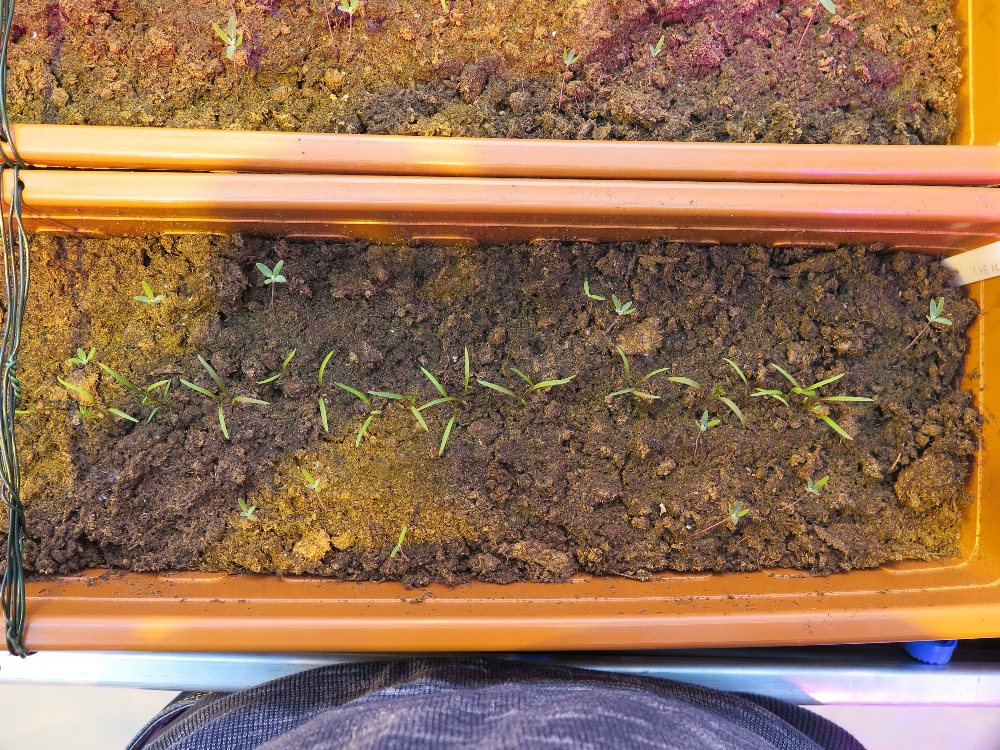crop: (109, 347, 280, 461), (402, 349, 591, 440), (748, 358, 875, 445), (57, 347, 155, 458), (384, 363, 471, 461), (589, 329, 682, 420), (687, 340, 759, 445), (262, 340, 334, 438), (330, 372, 398, 454)
weed: (257, 258, 309, 313), (582, 267, 634, 322), (212, 8, 262, 65), (914, 297, 966, 347), (307, 1, 377, 38), (691, 411, 746, 449), (639, 22, 677, 67), (132, 274, 171, 317), (64, 331, 100, 374), (221, 486, 257, 526), (805, 470, 839, 506), (802, 1, 846, 26), (552, 47, 589, 72), (721, 497, 746, 533)
